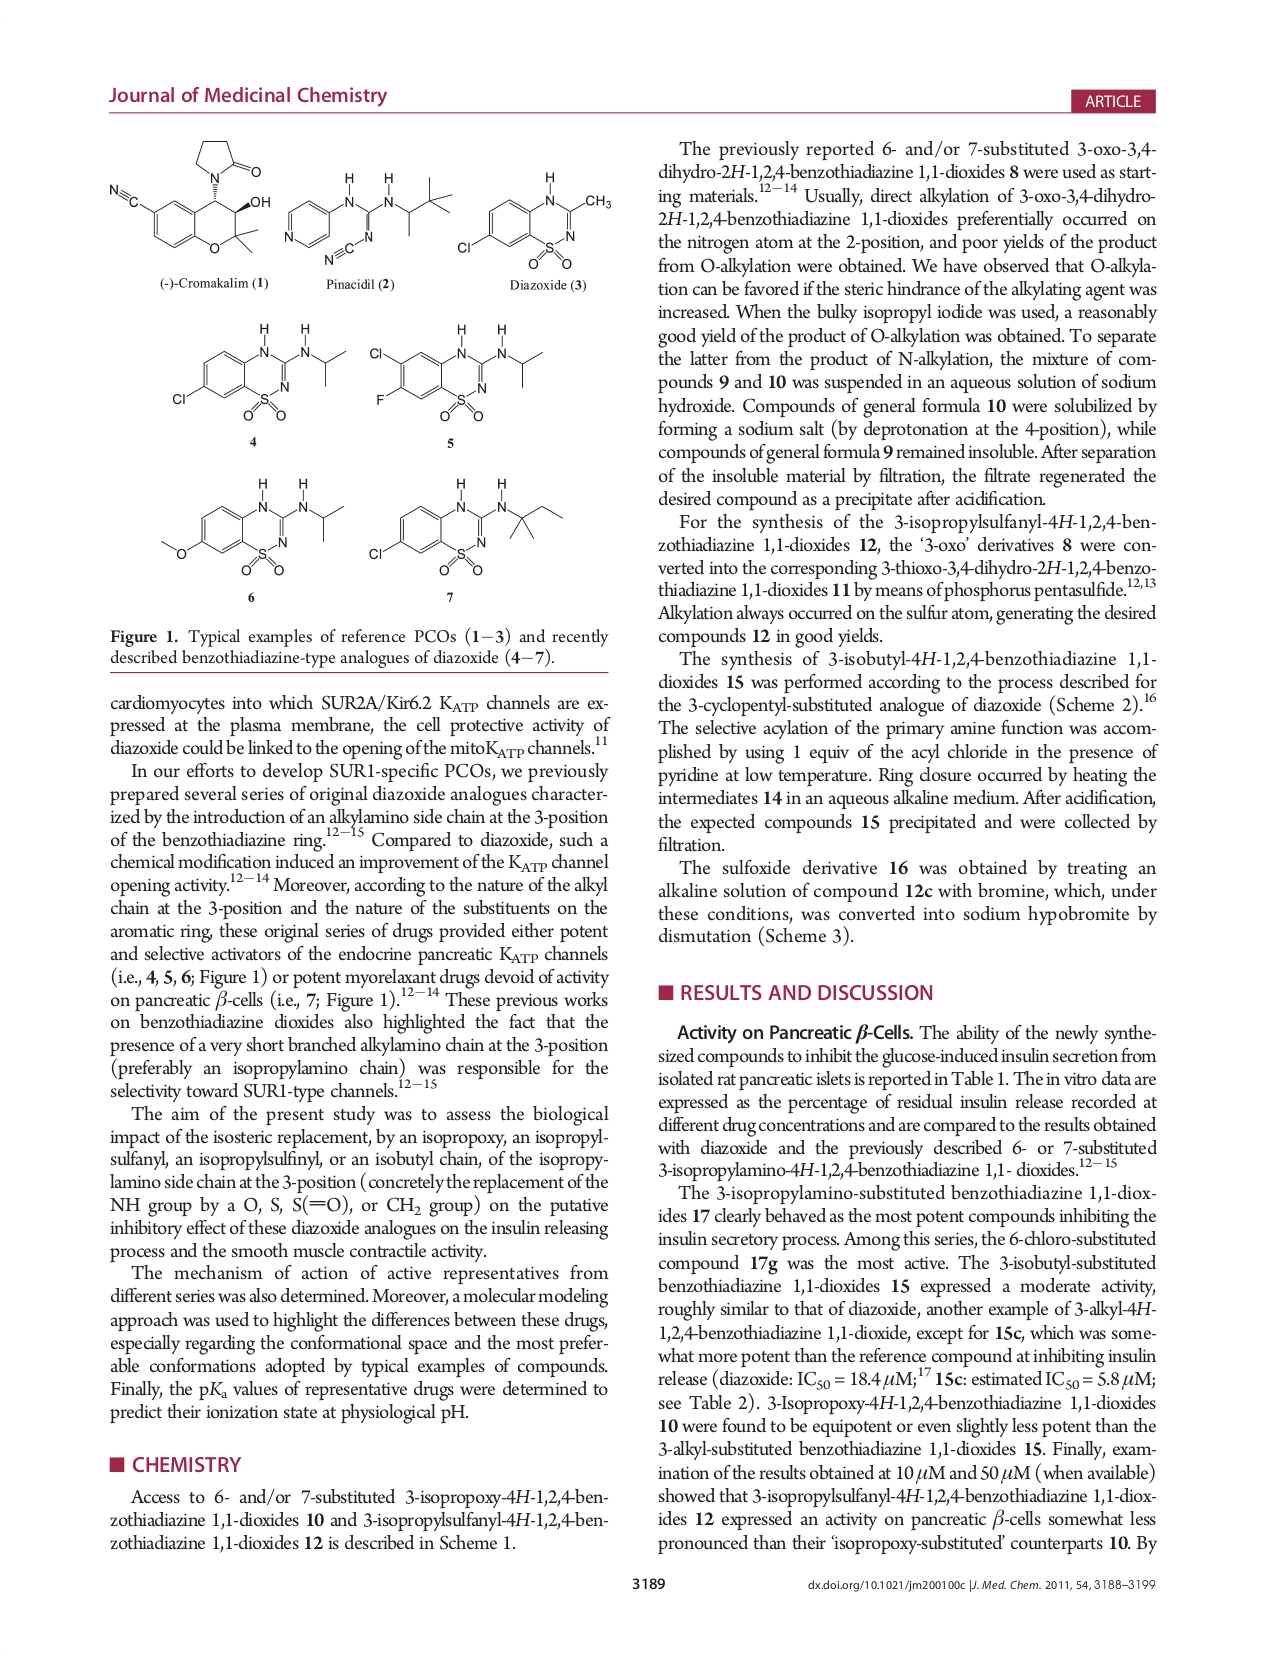exist_molecular: (367, 472, 567, 581), (105, 137, 274, 257), (157, 471, 348, 576), (169, 317, 348, 427), (367, 321, 545, 426), (282, 166, 453, 269), (456, 170, 613, 271)
